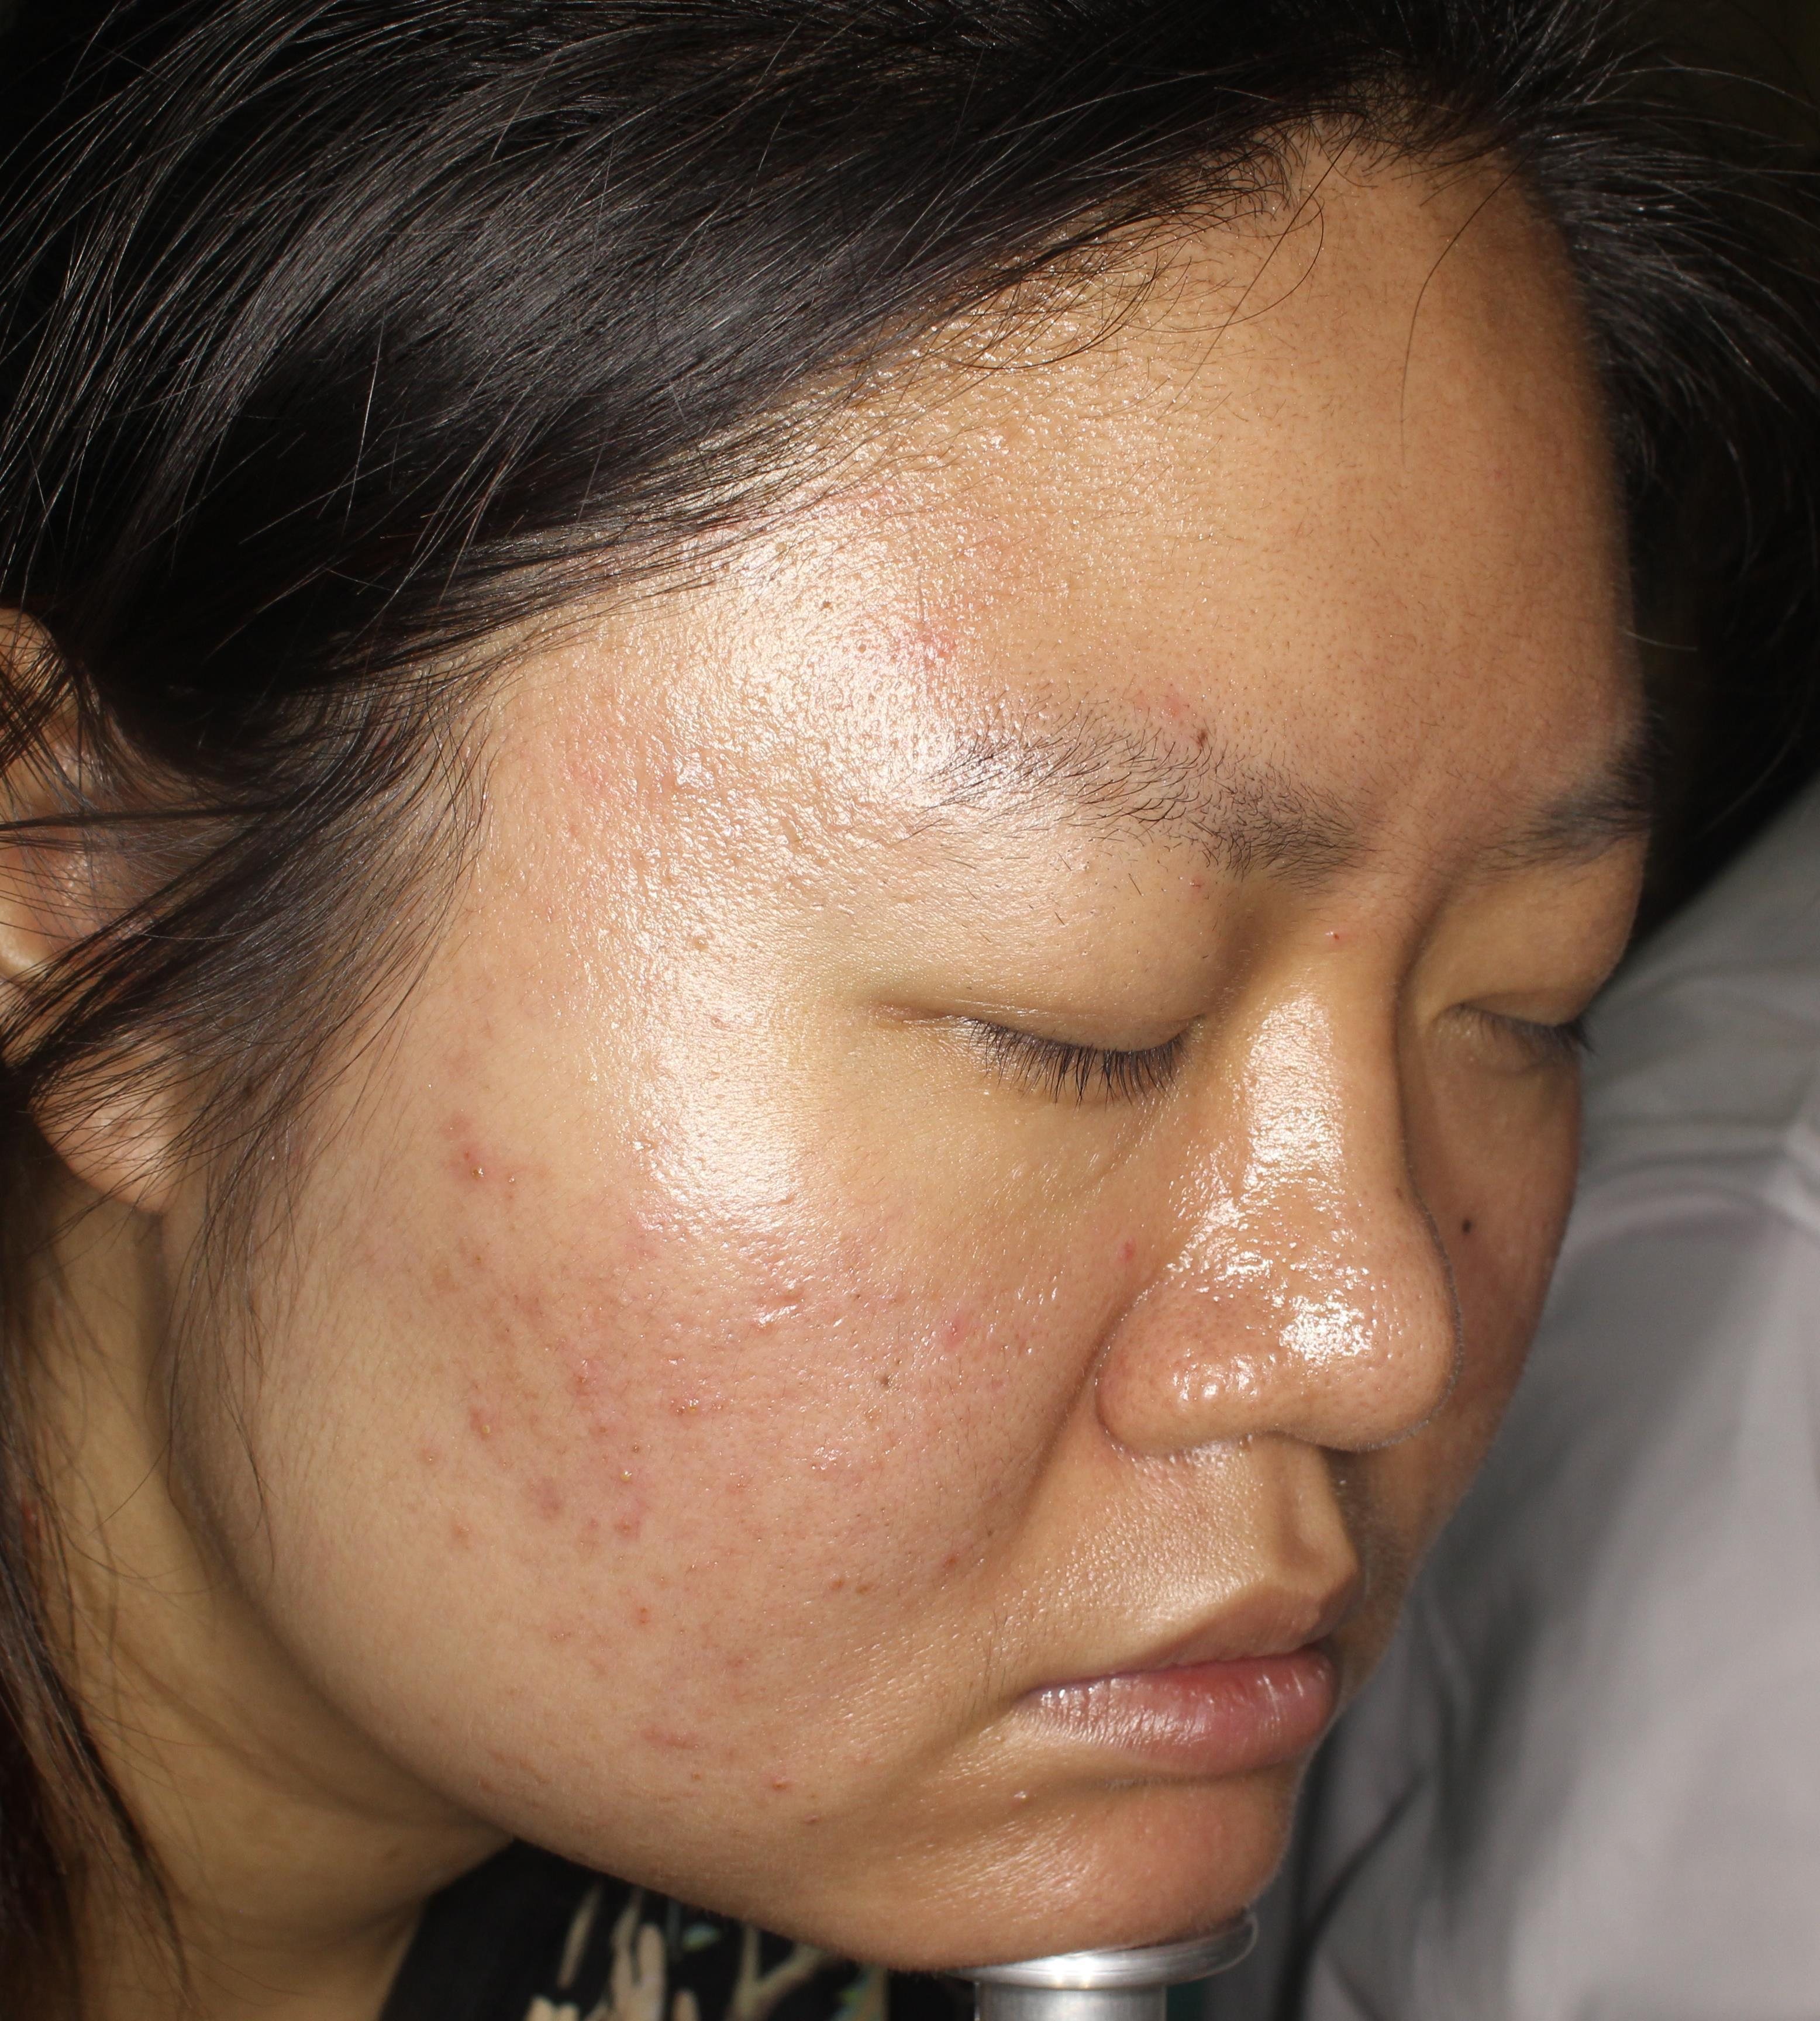fore: (652, 1361, 710, 1450), (441, 1124, 494, 1213), (557, 1338, 615, 1419), (646, 1701, 704, 1768), (462, 1387, 502, 1468), (516, 1468, 566, 1528), (603, 1491, 646, 1554), (624, 1589, 669, 1649)
